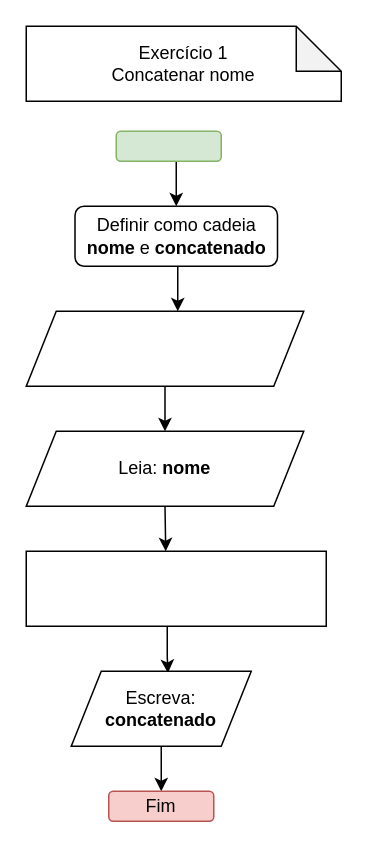
This 368x848 diagram has some shape labels left out. Here are the shapes that lost their labels. From the top down, the box of each, then its label:
(115, 130, 221, 161): Início
(25, 310, 304, 386): Escreva: Informe seu nome?
(25, 550, 326, 626): Fazer concatenado igual a "Olá " + nome + ", prazer em te conhecer"
